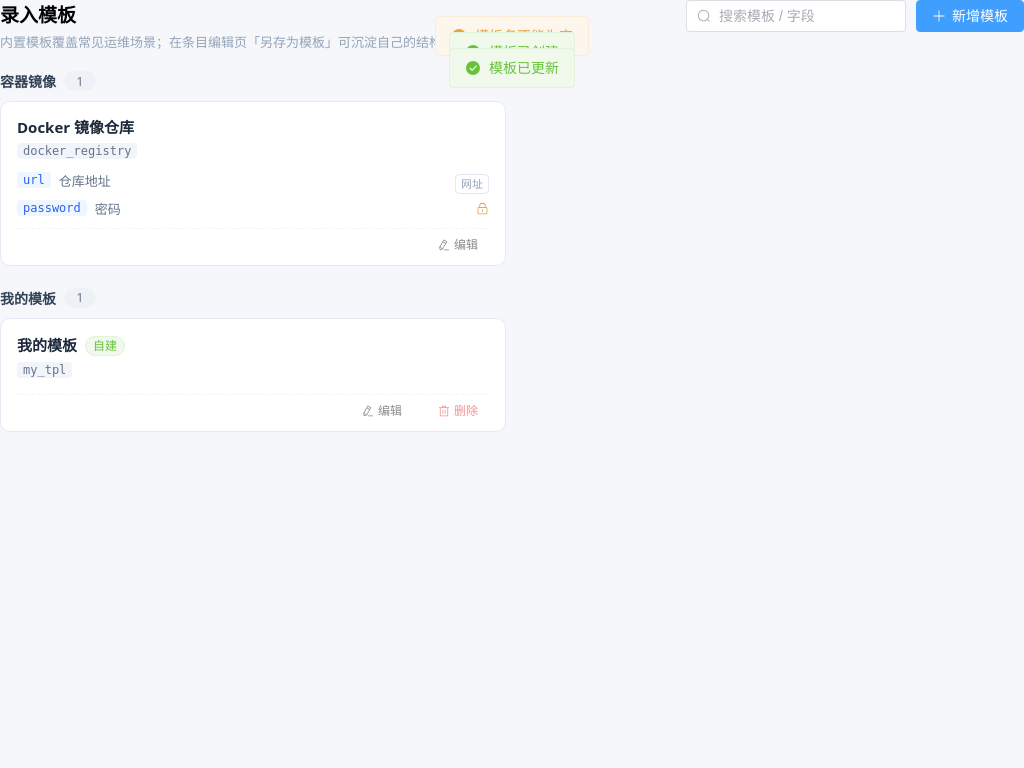
Templates.vue › 添加/删除字段行
Click the button "新增模板": (970, 16) [916,0,1023,32]
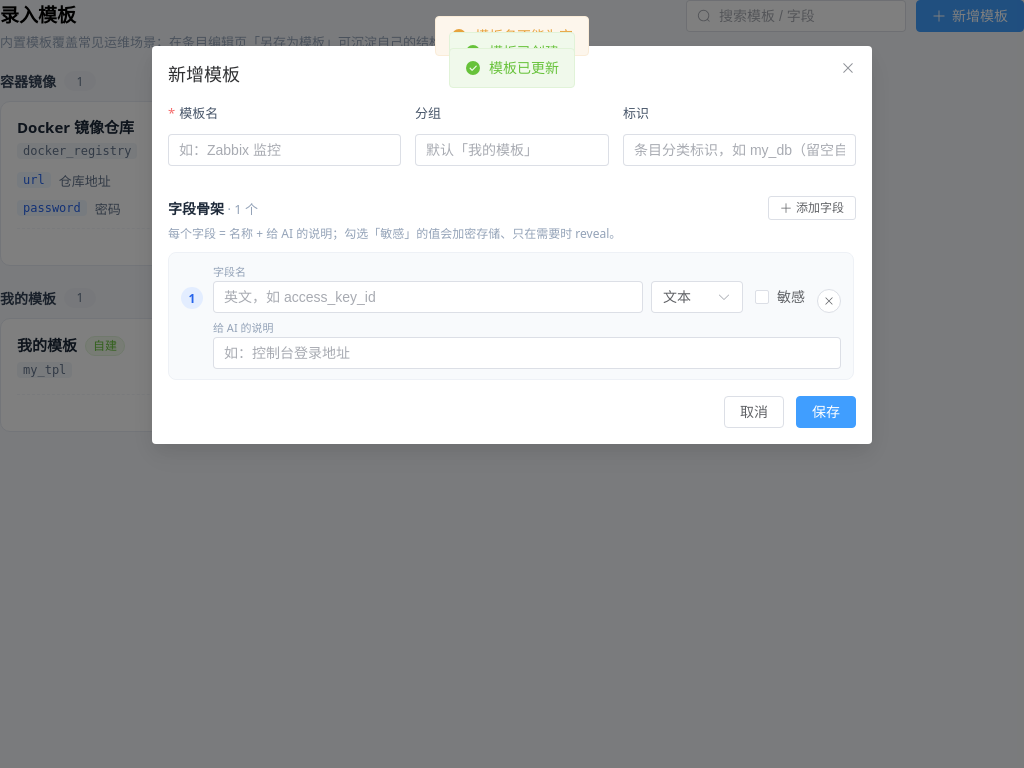
Check: the number of elements with class "frow" is 1, box [168,252,854,380]
Click the button "添加字段": (812, 208) [768,196,856,220]
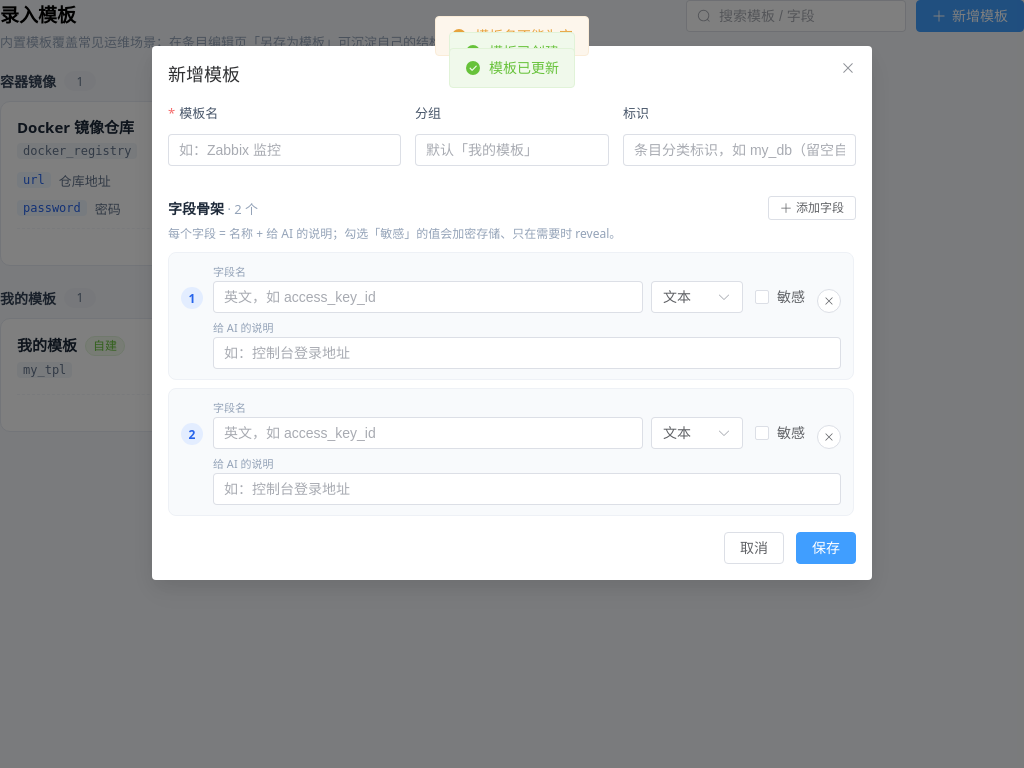
Check: the number of elements with class "frow" is 2, box [168,252,854,380]; [168,388,854,516]
// 删除第一行（圆形 ✕ 按钮带 tooltip，直接找 .frow-del）
Click the 1st button with class "frow-del": (829, 301) [817,289,841,313]
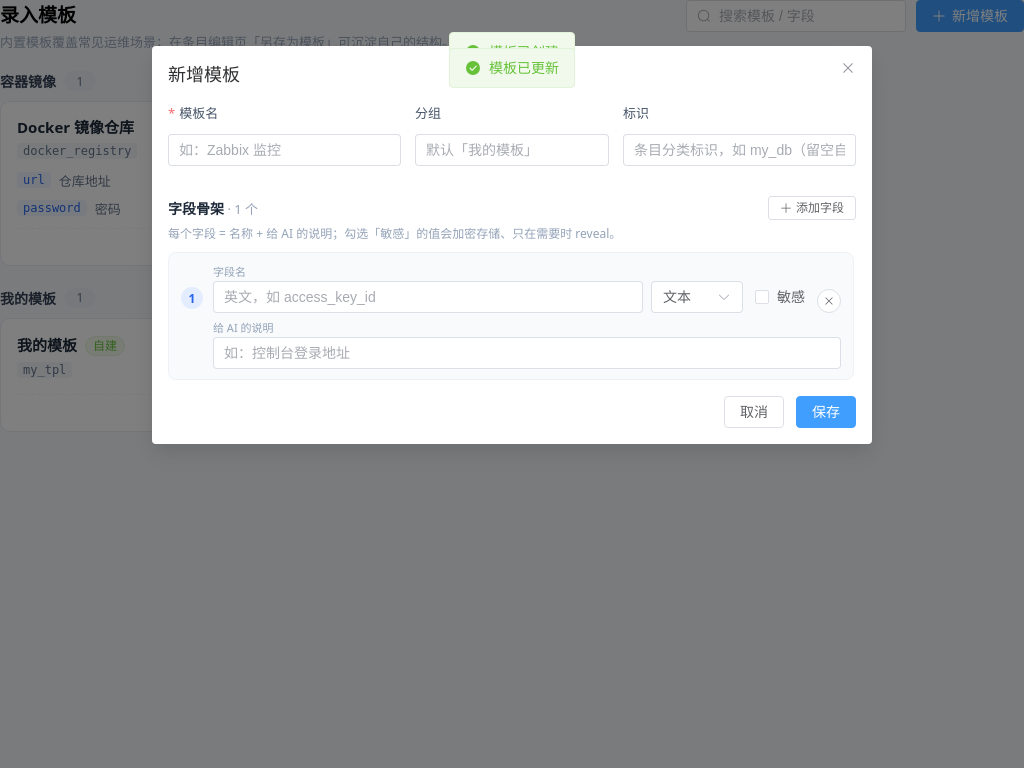
Check: the number of elements with class "frow" is 1, box [168,252,854,380]
